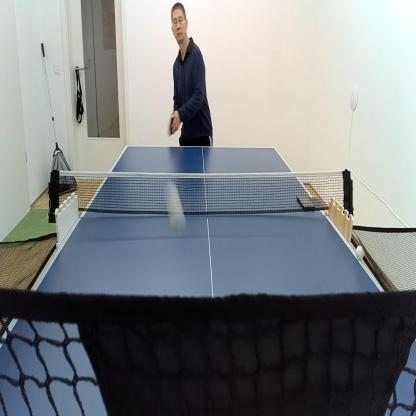Ball: (164, 182, 187, 236), (355, 242, 366, 262)
